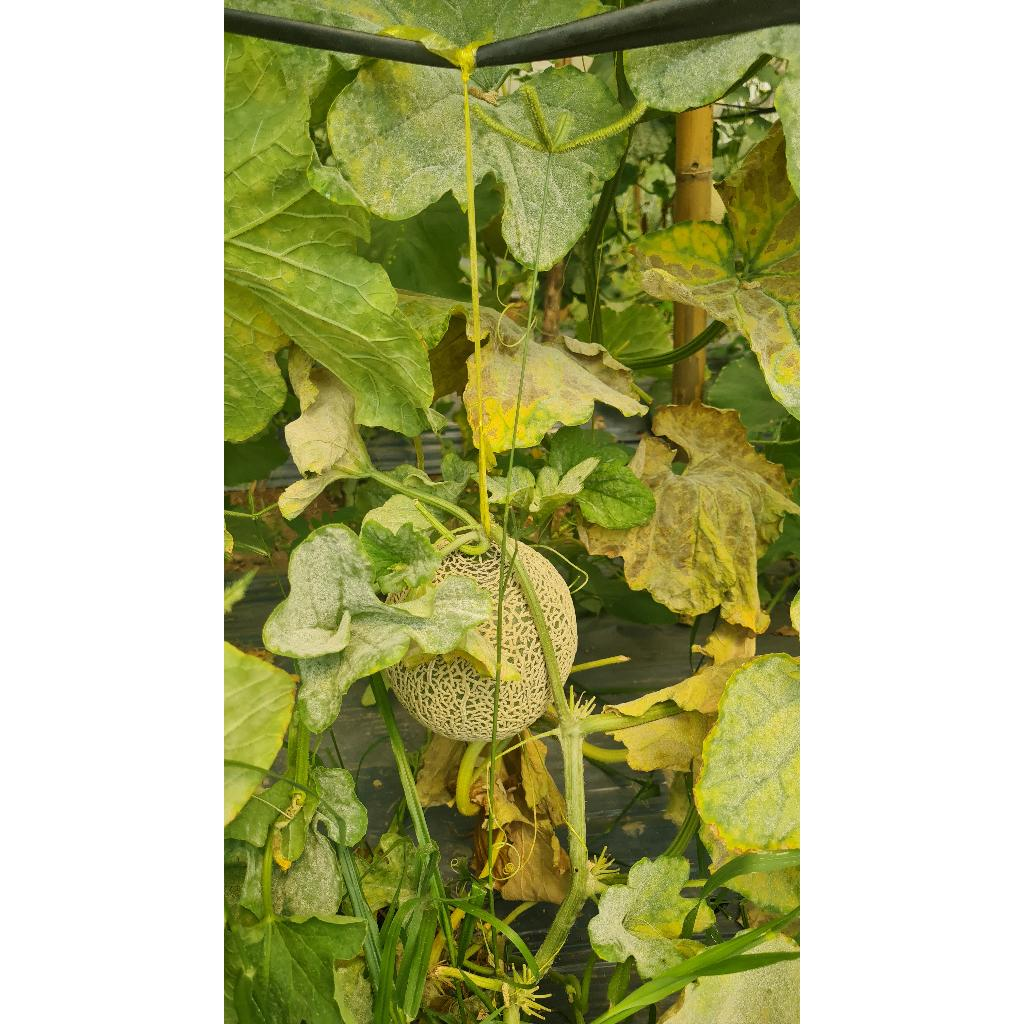melon: (386, 656, 496, 742), (496, 574, 552, 738), (518, 542, 578, 682), (436, 542, 500, 646)
